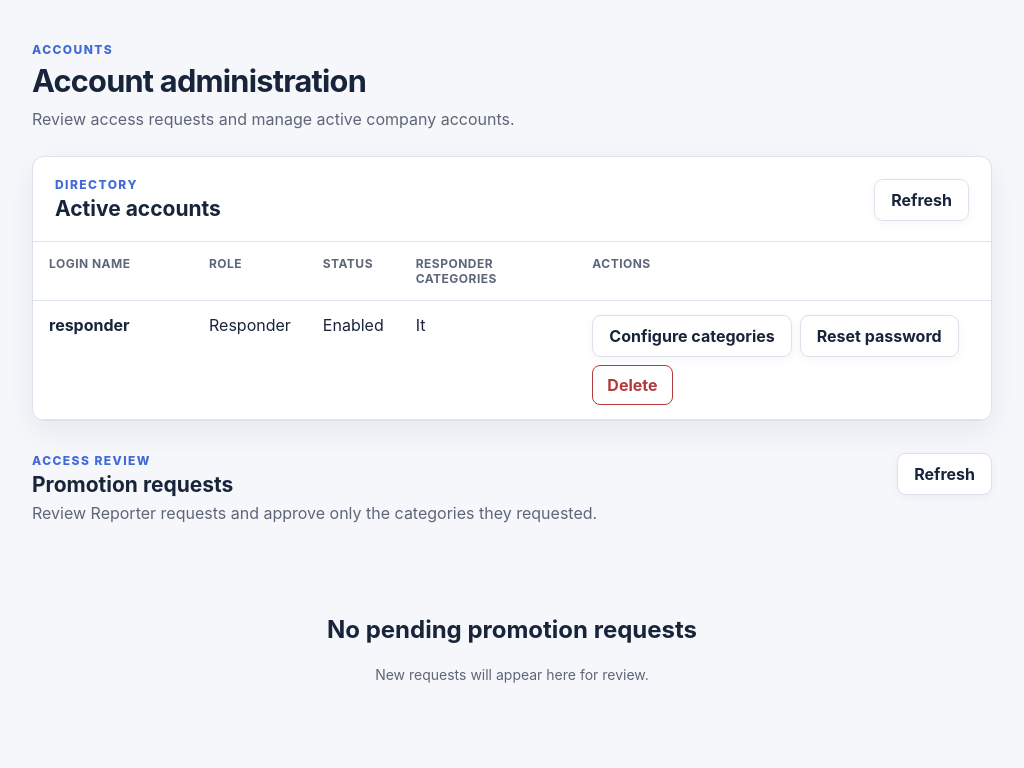
Scenario: Administrator account directory › allows clearing all categories and keeps the popup open after a failed update
What coordinates should you click on to do the following:
click the button with aria-label "Configure categories for responder"
I would click on:
 (692, 336)
Its box is x1=592 y1=315 x2=792 y2=357.
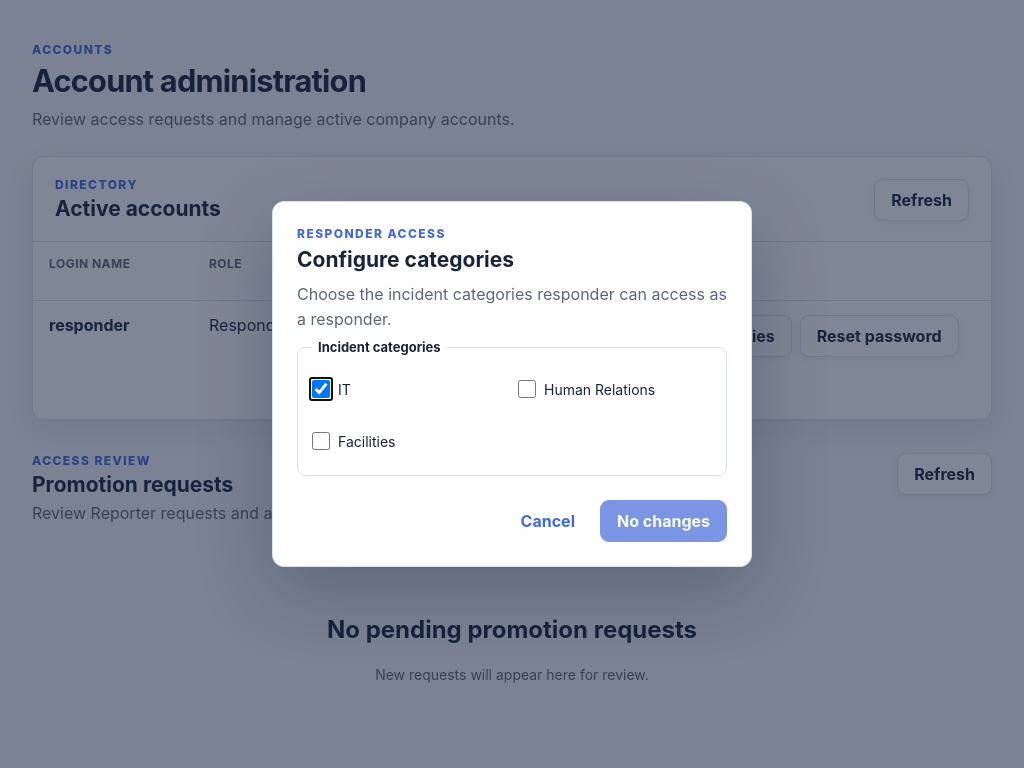
What coordinates should you click on to do the following:
click the checkbox labelled "IT"
I would click on:
 (321, 389)
Its box is x1=312 y1=380 x2=330 y2=398.
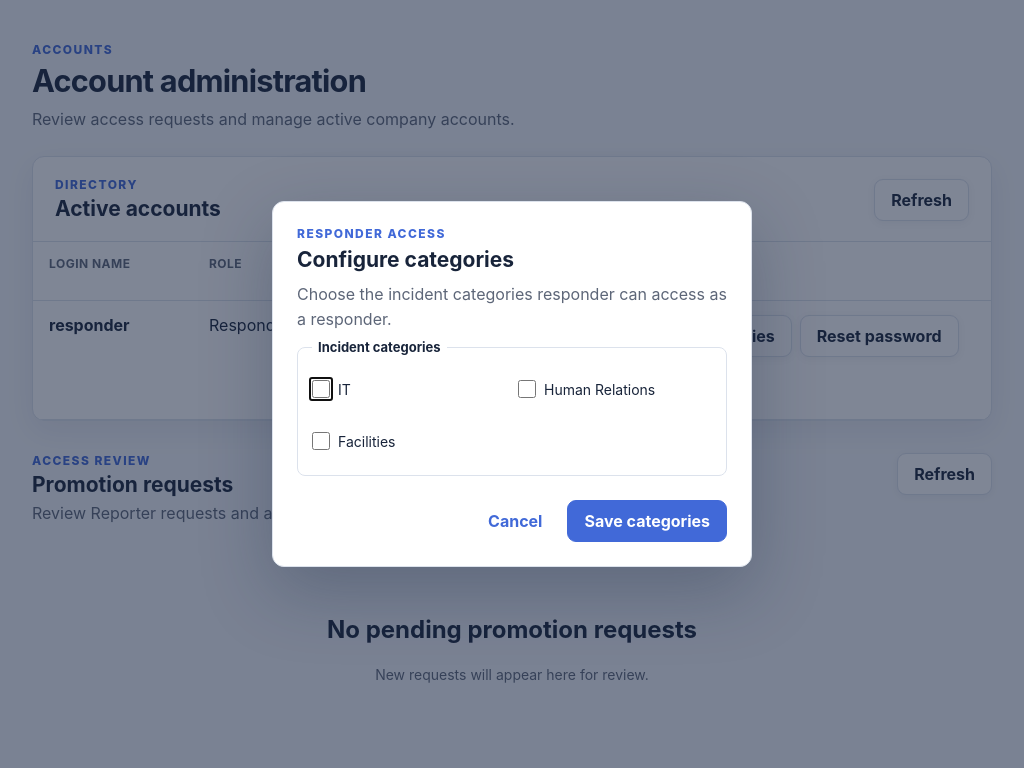
What coordinates should you click on to do the following:
click the button "Save categories"
I would click on:
 (647, 521)
Its box is x1=568 y1=500 x2=727 y2=542.
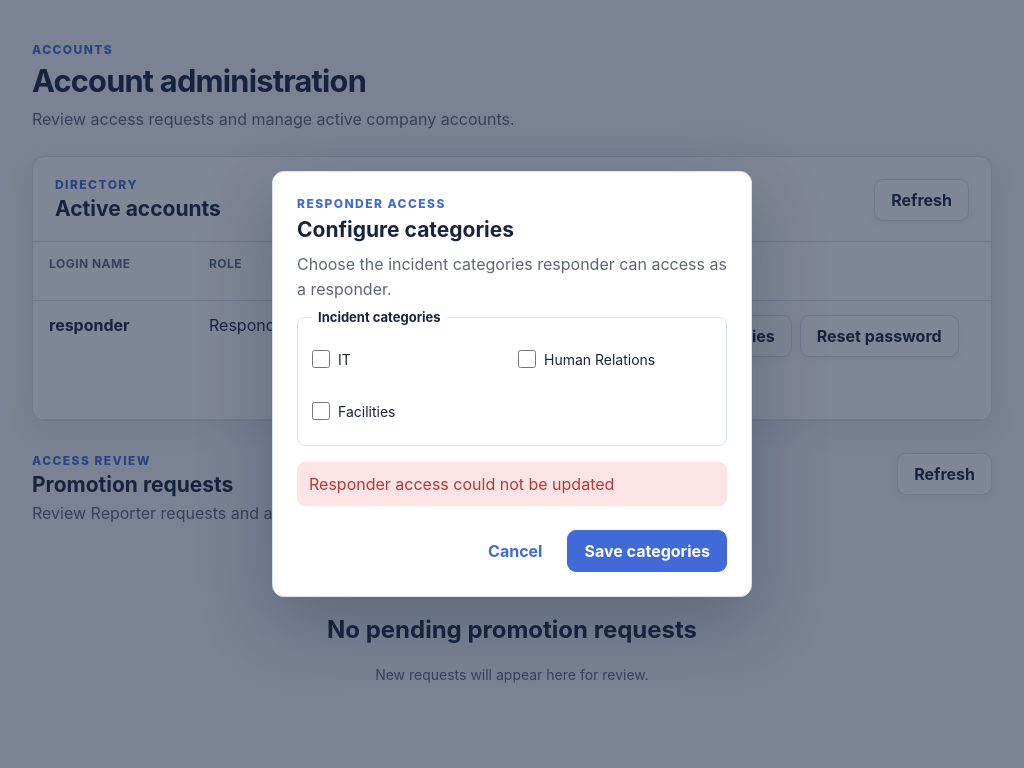
expect the dialog "Configure categories" is shown: met, box x1=272 y1=171 x2=752 y2=597
expect the message shows "could not be updated": met, box x1=309 y1=474 x2=614 y2=494
